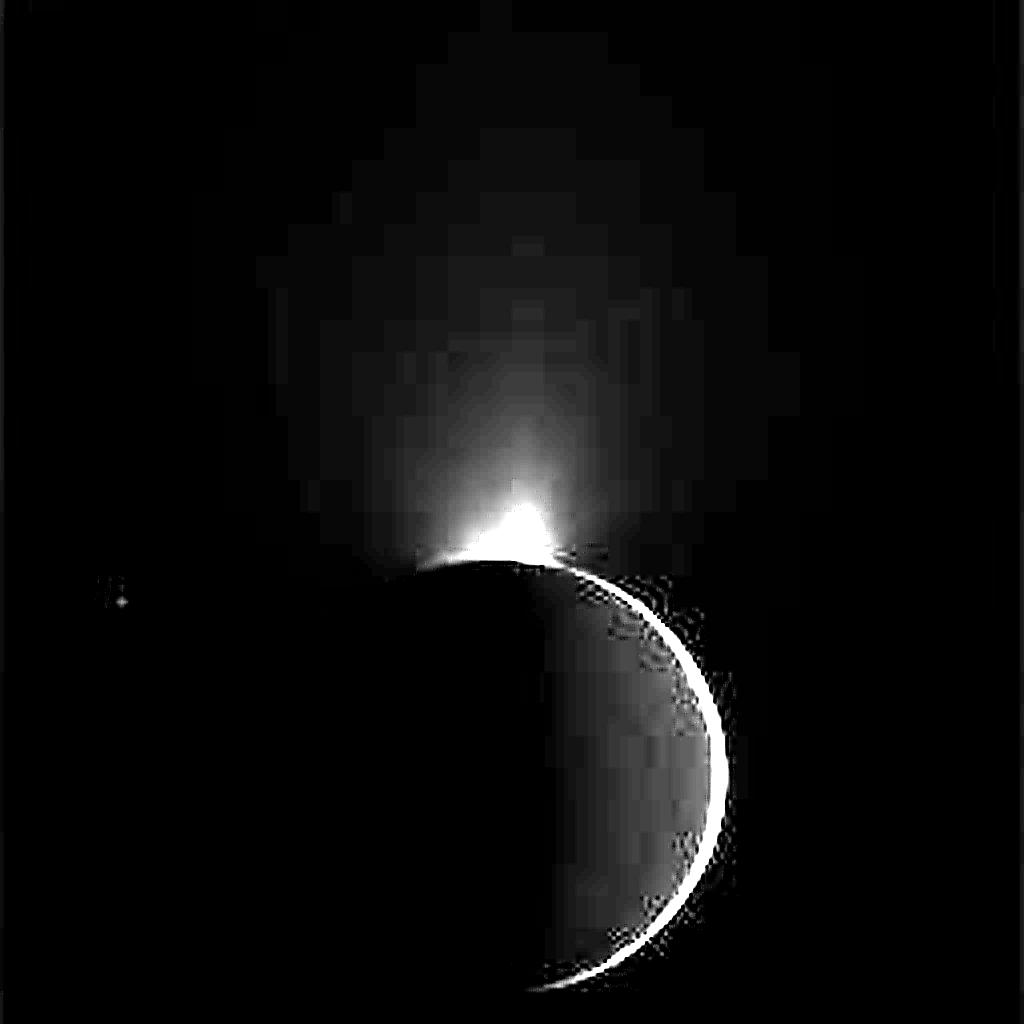plumes: (458, 501, 557, 566)
